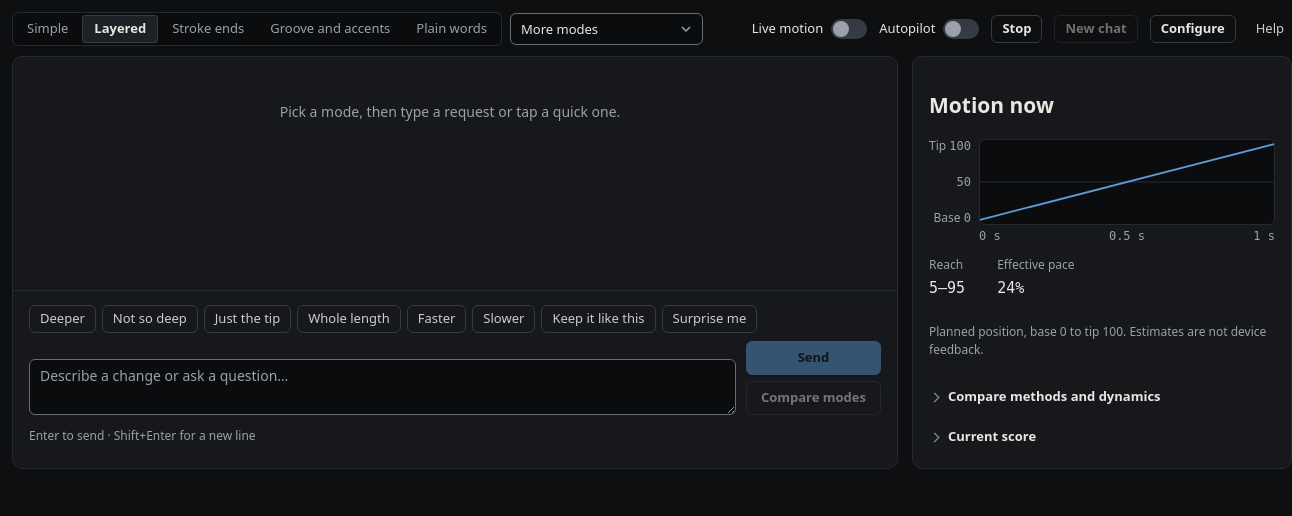
Scenario: streamlined LLM Lab › keeps chat as preview until Live motion is switched on
This screenshot has width=1292, height=516.
Expected: the text "Pick a mode, then type a request or tap a quick one." is shown, [280,102,620,121]
Type "Hold the tip" into the text box named "Message" at (382, 387), box [29,359,736,415]
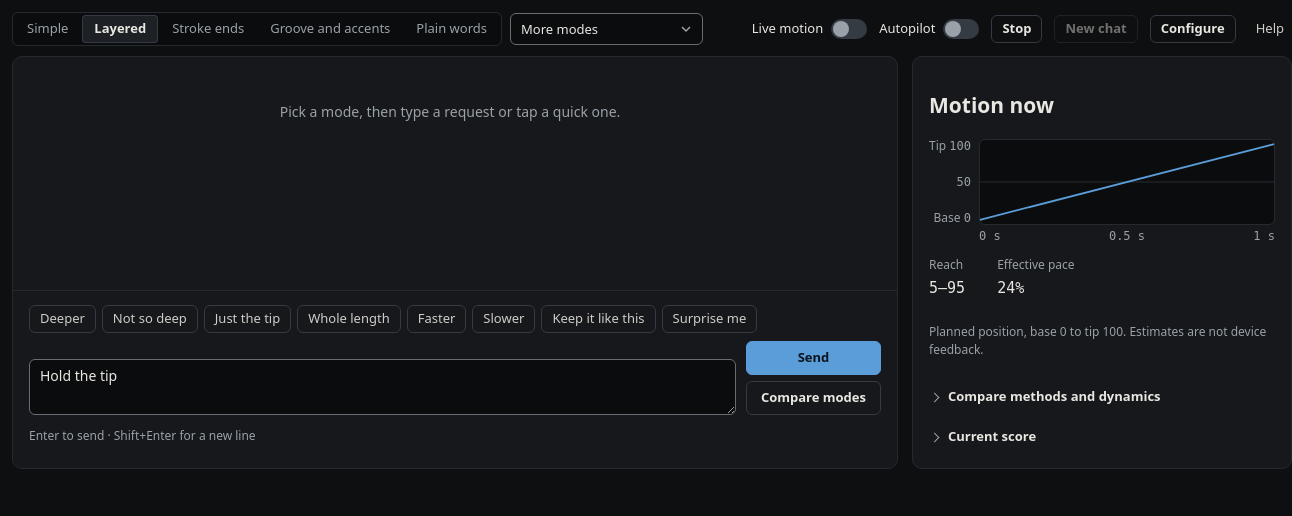
Click the button "Send" at (813, 358), box [746,341,881,375]
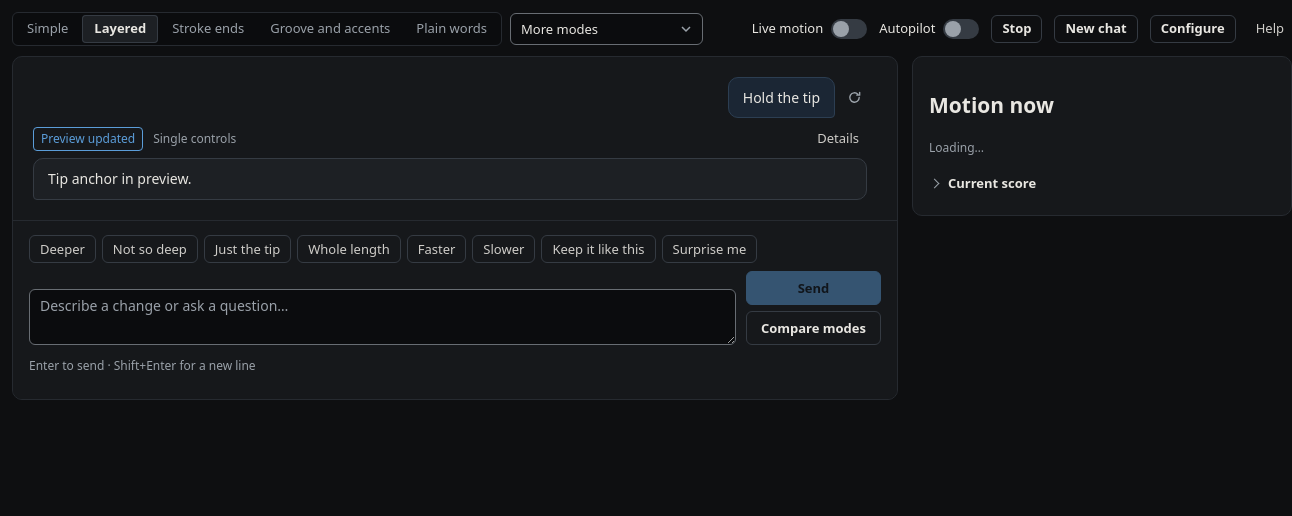
Expected: the text "Tip anchor in preview." is shown, [33,158,867,200]
Click the switch labelled "Live motion" at (849, 29), box [831,19,867,39]
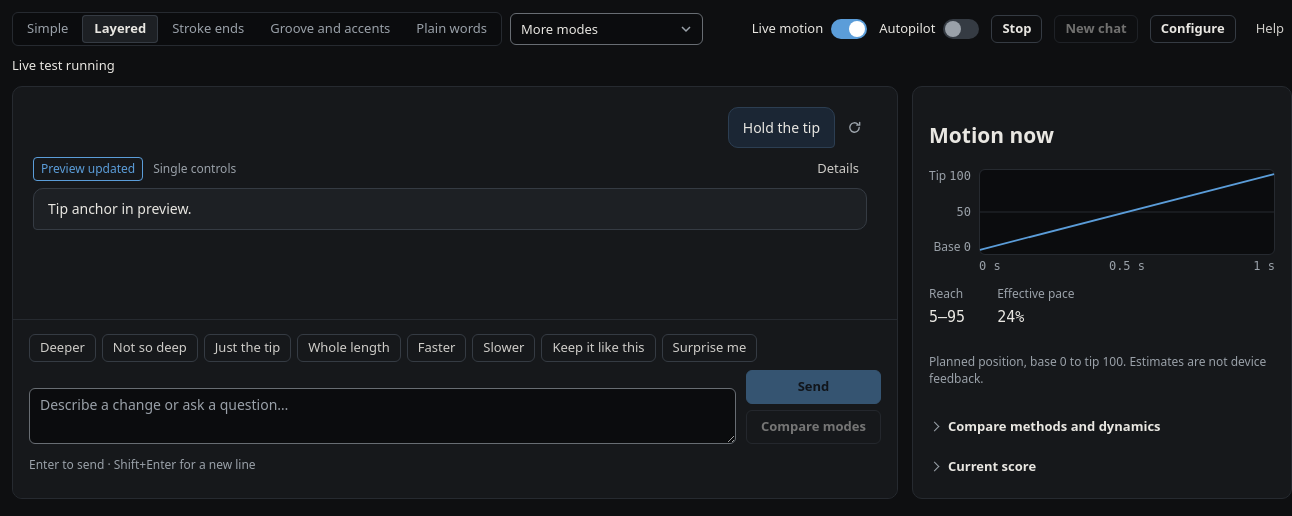
Expected: the text "Live test running" is shown, [12,56,115,76]
